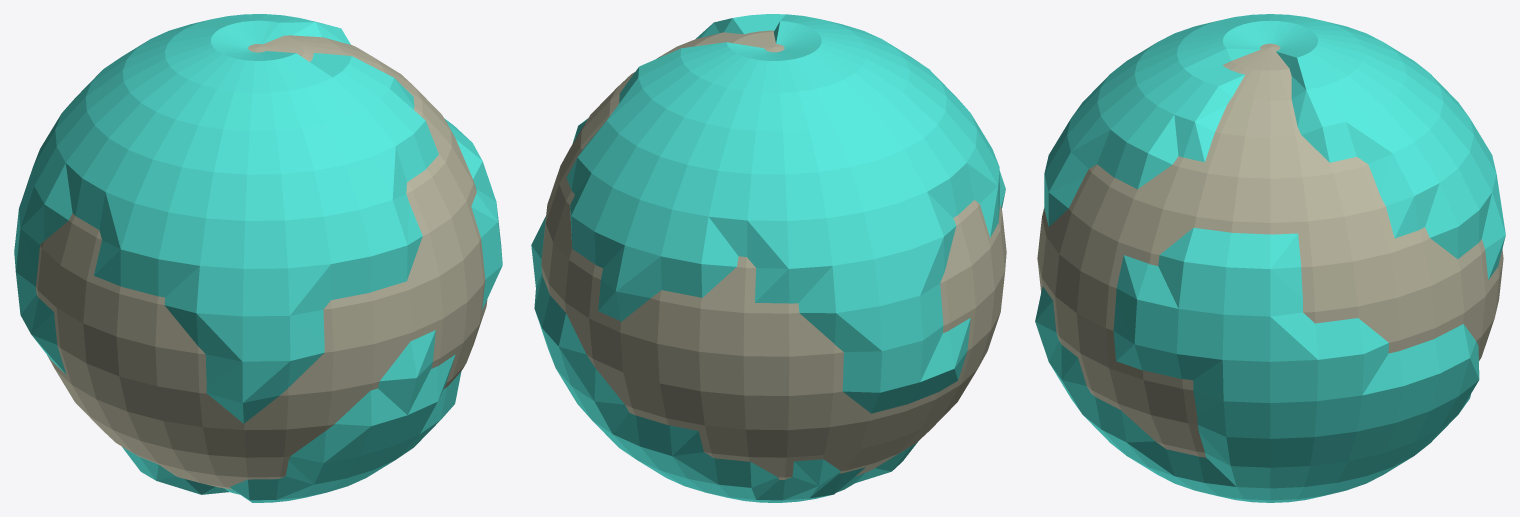
Rendered from Planet2.fbx.
The picture shows the model from 3 angles, left to right: view 1: azimuth 30°, elevation 25°; view 2: azimuth 150°, elevation 25°; view 3: azimuth 270°, elevation 25°; orthographic projection.
Visible parts, largest first — view 1: Sphere.001, Sphere; view 2: Sphere.001, Sphere; view 3: Sphere.001, Sphere.
Boxes of the visible parts, box(x1,y1,x2,y2) form: Sphere.001: box(14, 14, 502, 502); Sphere: box(36, 35, 487, 489); Sphere.001: box(531, 14, 1005, 502); Sphere: box(541, 30, 1006, 479); Sphere.001: box(1035, 14, 1505, 502); Sphere: box(1037, 43, 1503, 457).
Size of the model in its own units: 206 by 208 by 202.
